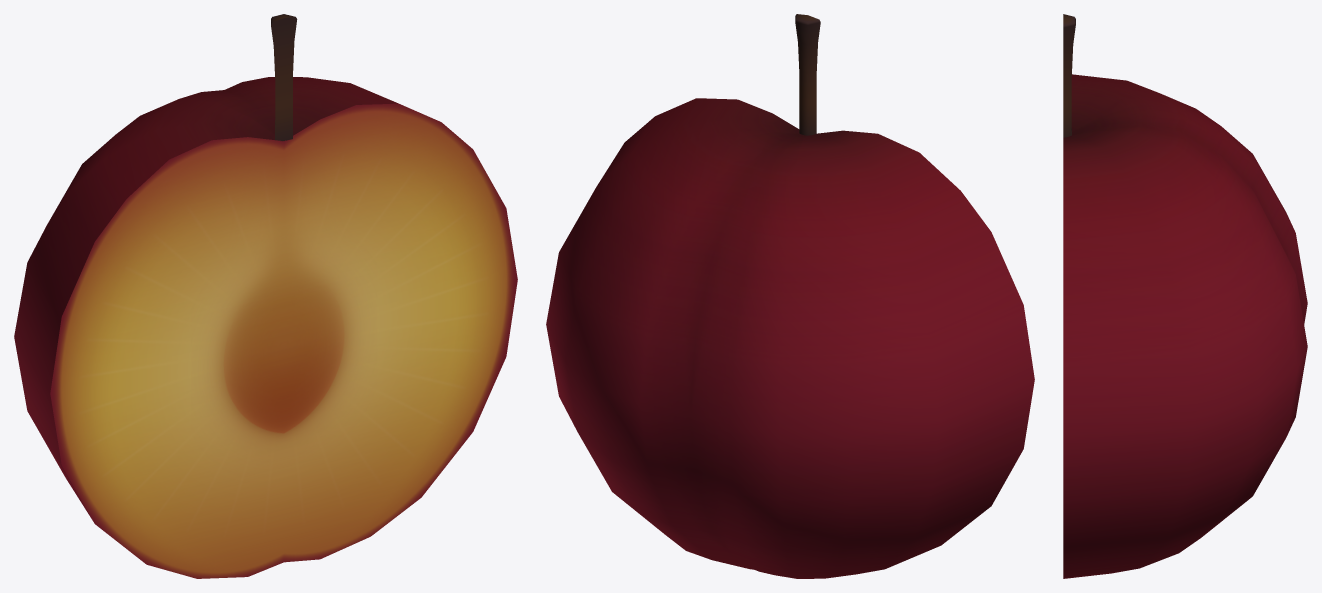
Rendered from Plum_Half_Front.fbx.
3 renders of one model, left to right at view 1: azimuth 30°, elevation 25°; view 2: azimuth 150°, elevation 25°; view 3: azimuth 270°, elevation 25°, orthographic. The views are drawn at different scales.
Parts seen in each view (by area): view 1: Plum_Half_Front; view 2: Plum_Half_Front; view 3: Plum_Half_Front.
Boxes of the visible parts, x1=… form: Plum_Half_Front: x1=14, y1=14, x2=517, y2=578; Plum_Half_Front: x1=546, y1=14, x2=1034, y2=578; Plum_Half_Front: x1=1063, y1=14, x2=1307, y2=578.
Size of the model in its own units: 1.18 by 1.33 by 0.5551.
